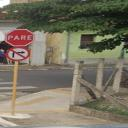NoVirarDireita: (6, 46, 32, 62)
Pare: (3, 28, 36, 47)
